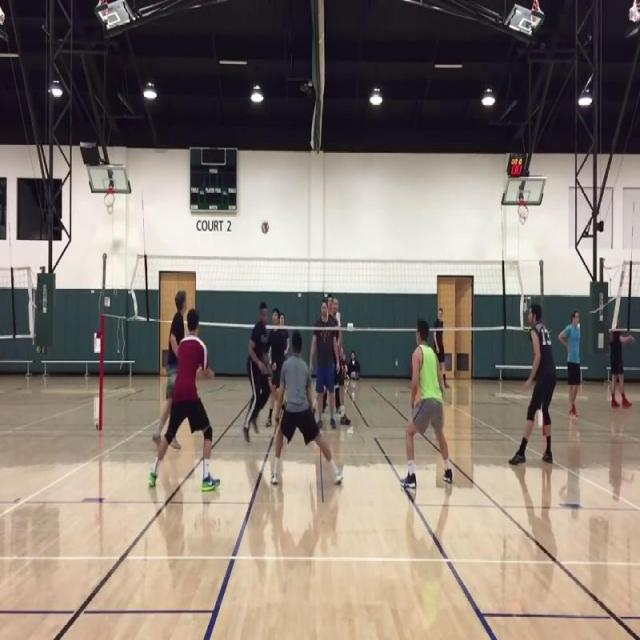volleyball: (261, 220, 269, 234)
